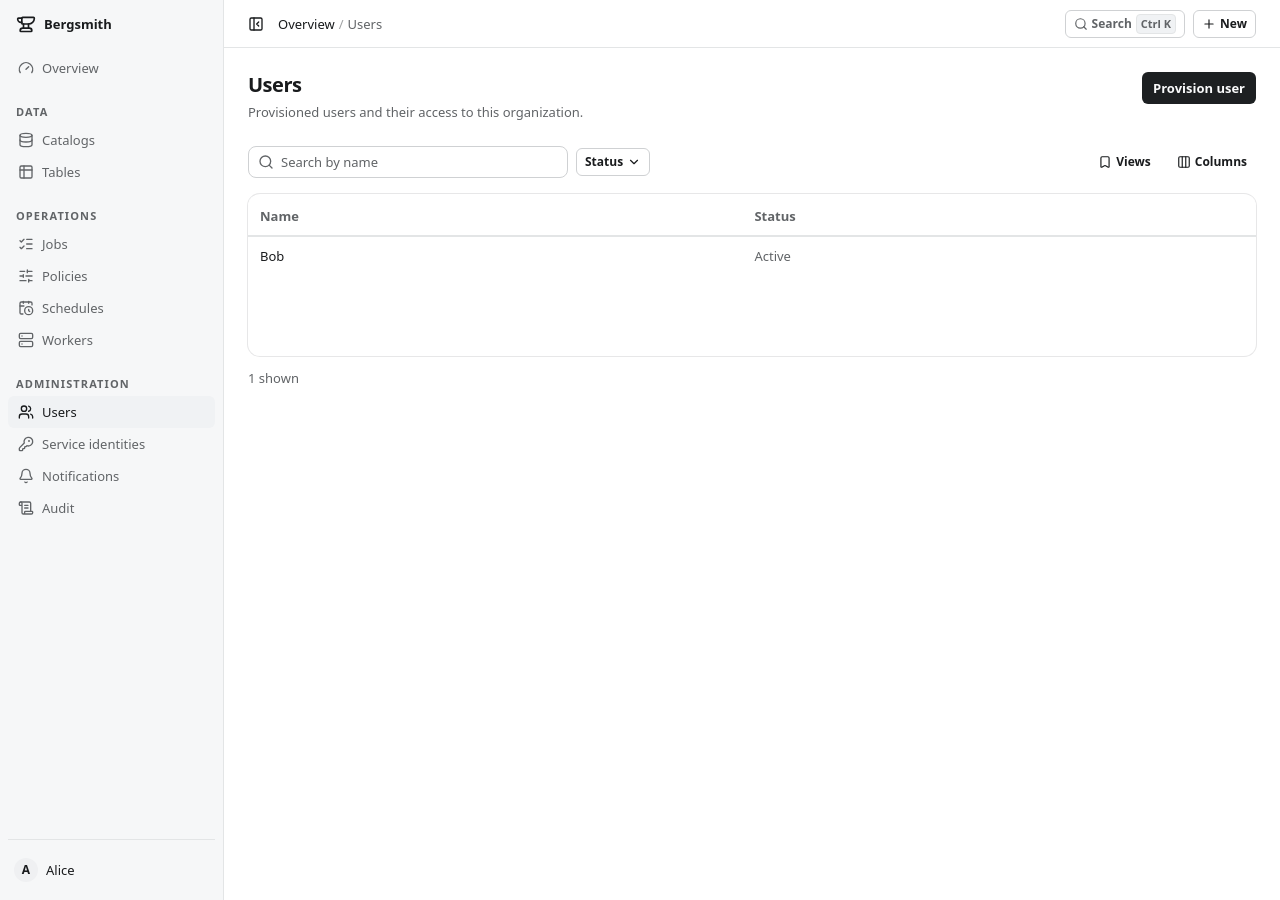
blocks duplicate provisioning after an uncertain outcome
This screenshot has width=1280, height=900.
Click the button "Provision user": (1199,88) [1142,72,1256,104]
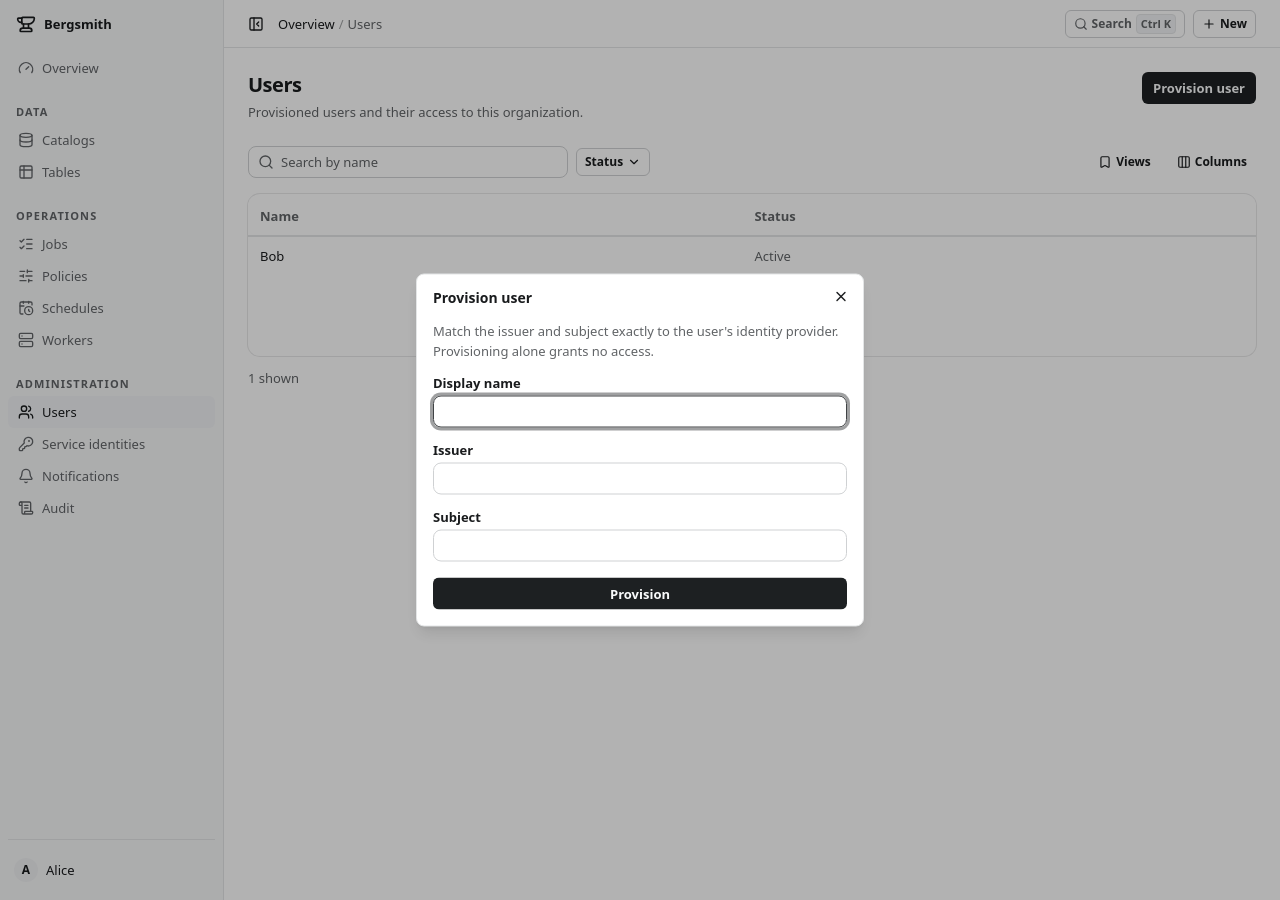
In the field labelled "Display name": (640,412) [433,396,847,428], type "Bob"
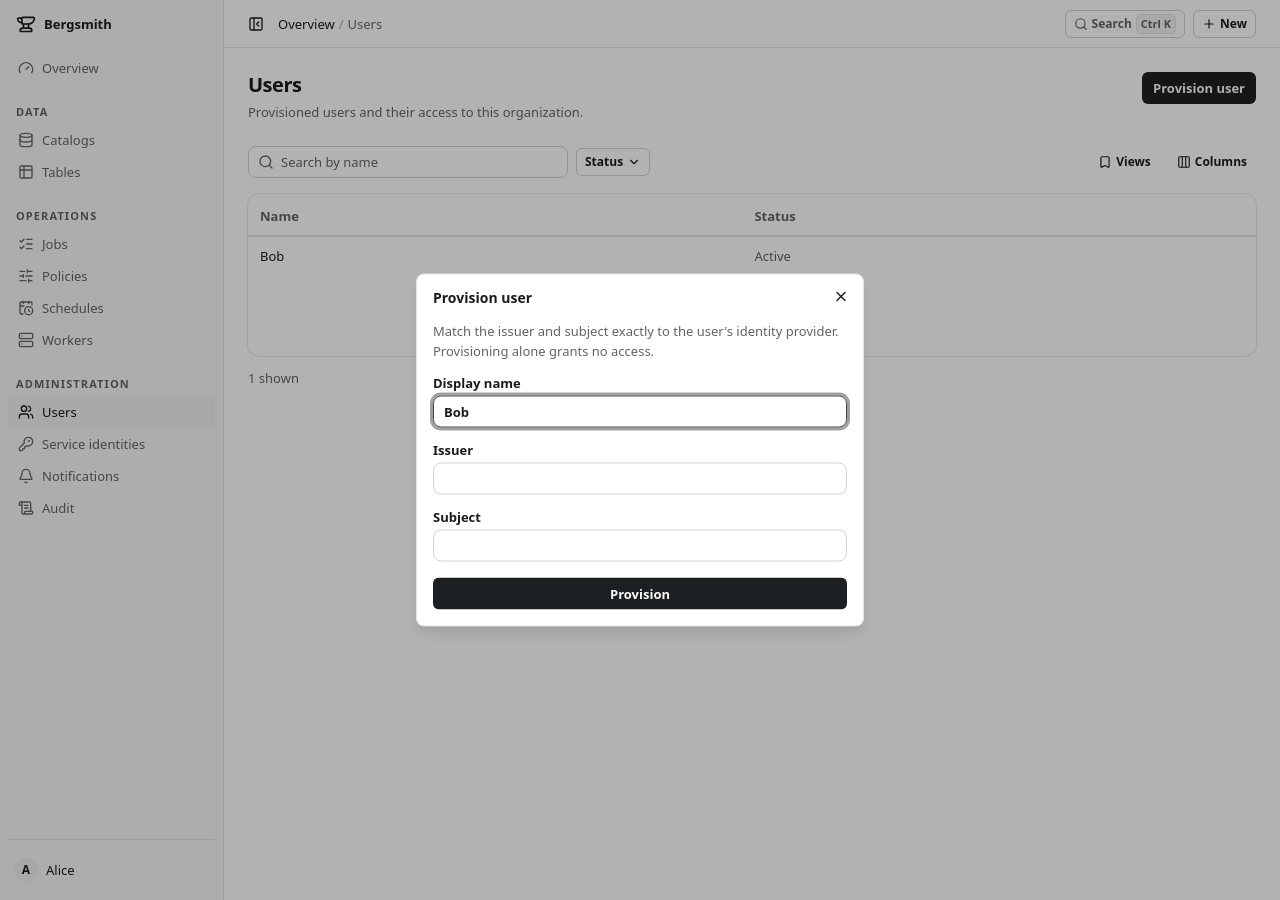
In the field labelled "Issuer": (640,478) [433,462,847,494], type "https://id.example"
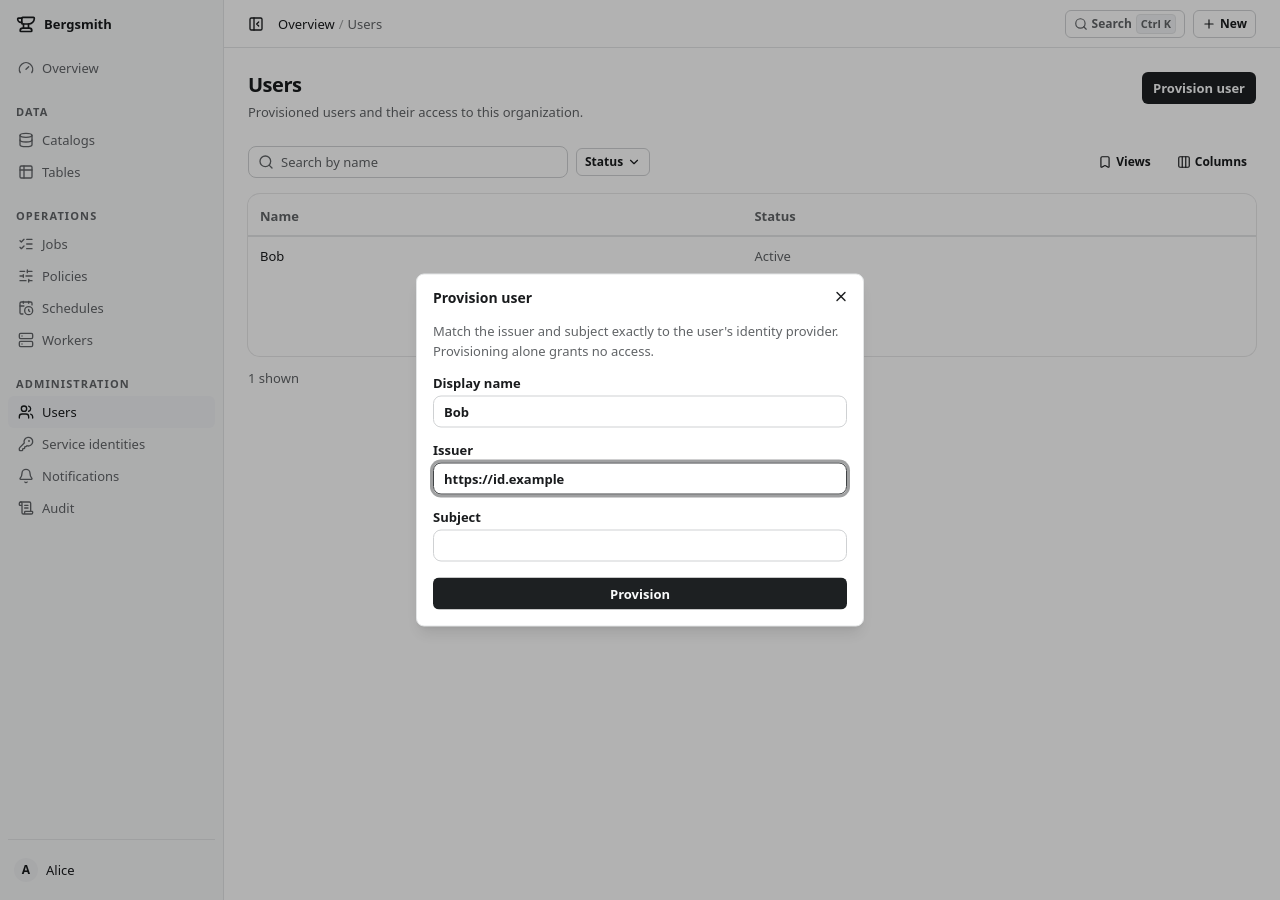
In the field labelled "Subject": (640,546) [433,530,847,562], type "bob-subject"
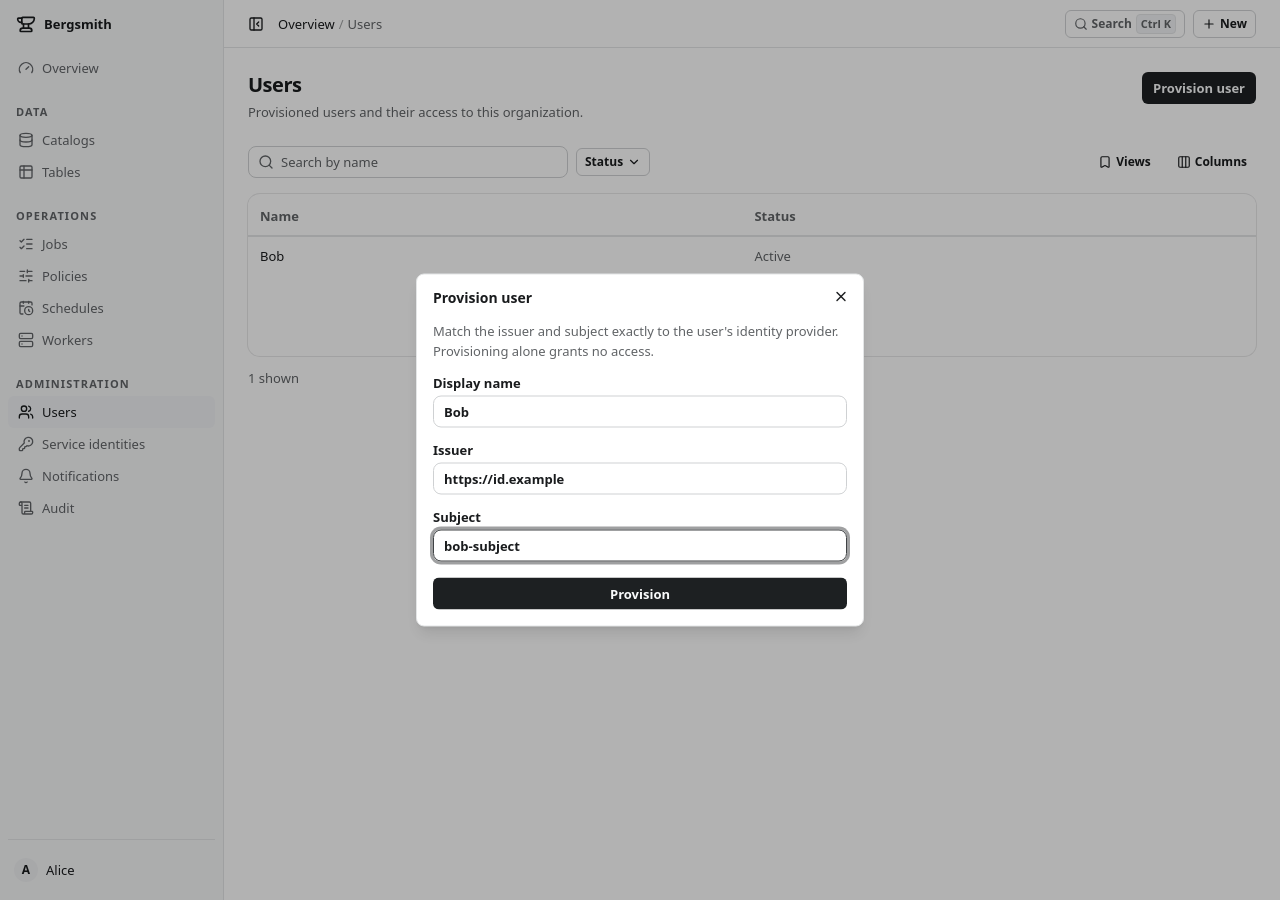
Click the button "Provision": (640,594) [433,578,847,610]
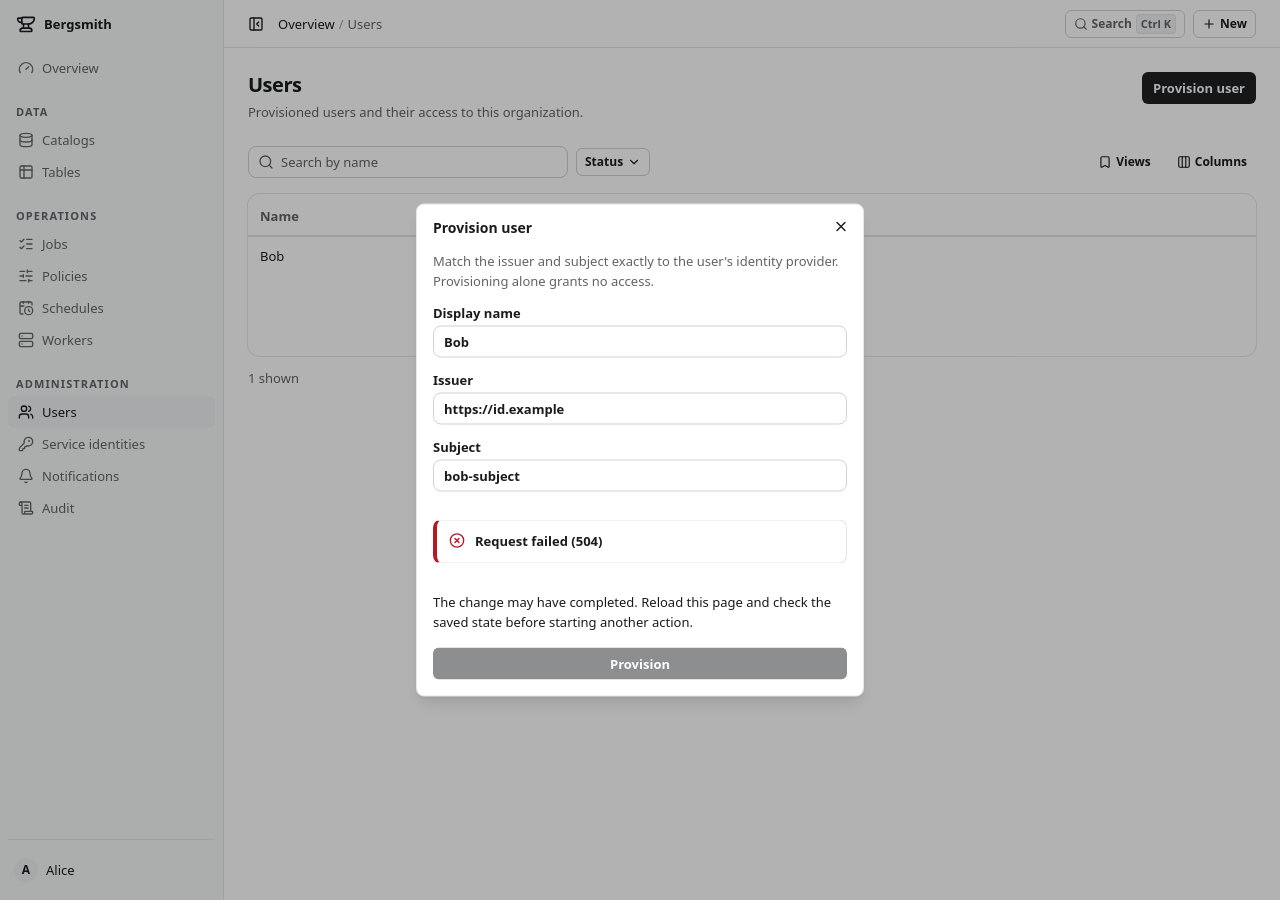
Check: the button "Provision" is disabled, box [433,648,847,680]
